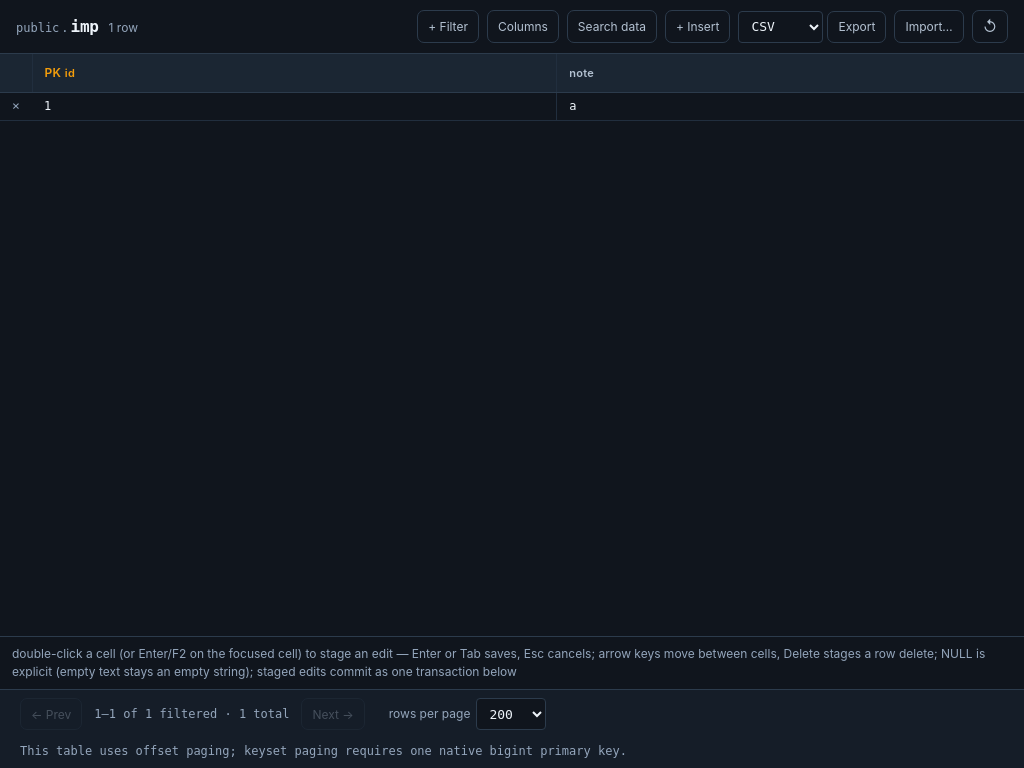
Test: SQLBrowser S06: import entry and page sizes › the Import button opens the import dialog on an editable table
Click the button "Import…": (929, 26) [894, 10, 964, 43]
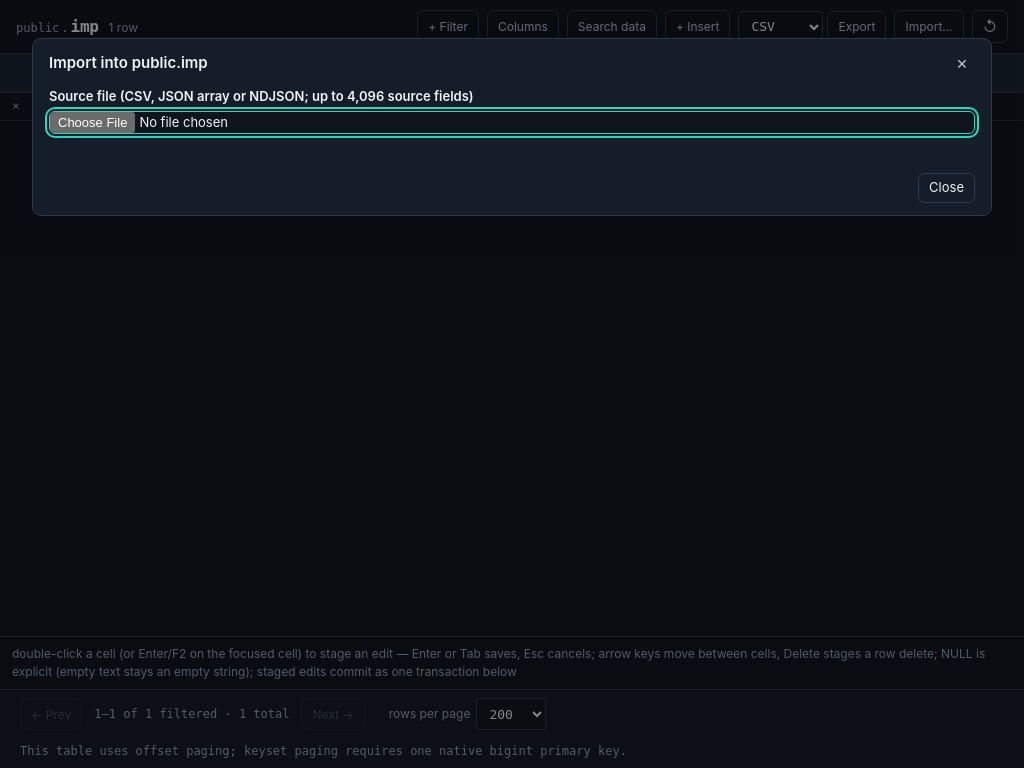
Now the dialog is shown, box [32, 38, 992, 216]
Now the heading "Import into public.imp" is shown, box [49, 52, 208, 75]
